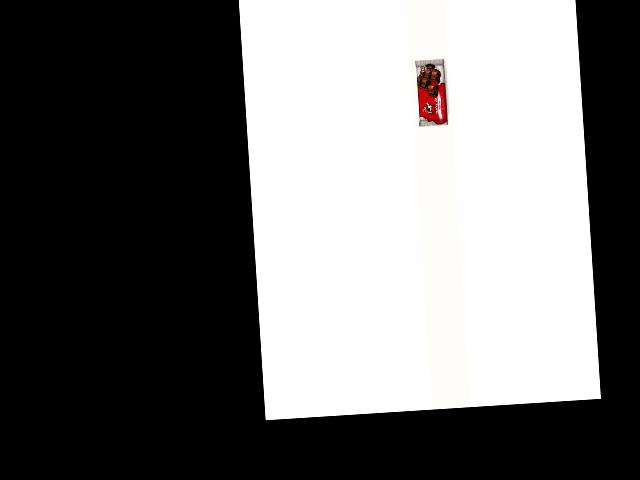chocolate: (412, 57, 453, 128)
